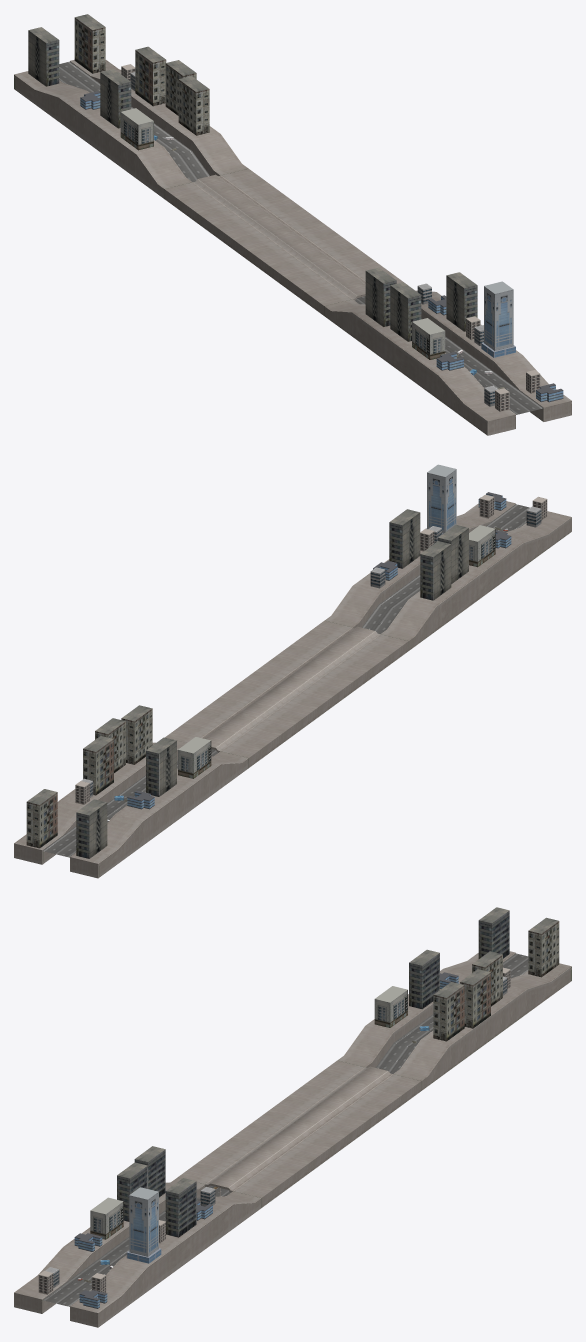
3 views of the same model, one above another, from view 1: azimuth 30°, elevation 25°; view 2: azimuth 150°, elevation 25°; view 3: azimuth 330°, elevation 25° (orthographic).
Parts seen in each view (by area): view 1: tunnel, road, building5, building23, building15, building24, building17, building10, building021, building11, building13, building18 (+2 smaller); view 2: tunnel, road, building5, building13, building24, building23, building10, building021, building17, building15, building18, building11 (+2 smaller); view 3: tunnel, road, building5, building24, building15, building10, building021, building16, building23, building18, building9, building11 (+2 smaller).
Boxes of the visible parts, box(x1,y1,x2,y2) form: tunnel: box(14, 59, 571, 435); road: box(59, 61, 543, 414); building5: box(481, 281, 515, 357); building23: box(28, 27, 59, 86); building15: box(178, 76, 209, 135); building24: box(74, 14, 105, 73); building17: box(135, 46, 166, 106); building10: box(446, 272, 477, 331); building021: box(100, 69, 131, 128); building11: box(390, 282, 421, 341); building13: box(365, 267, 396, 326); building18: box(120, 108, 153, 150); tunnel: box(14, 501, 571, 878); road: box(42, 504, 529, 857); building5: box(426, 464, 456, 534); building13: box(420, 541, 451, 600); building24: box(26, 789, 57, 848); building23: box(76, 799, 107, 858); building10: box(389, 509, 420, 568); building021: box(146, 737, 176, 796); building17: box(83, 736, 113, 795); building15: box(121, 705, 152, 764); building18: box(178, 737, 211, 778); building11: box(438, 524, 468, 583); tunnel: box(14, 951, 571, 1327); road: box(42, 953, 528, 1306); building5: box(126, 1187, 161, 1263); building24: box(528, 917, 559, 977); building15: box(433, 982, 464, 1041); building10: box(165, 1178, 196, 1237); building021: box(409, 949, 439, 1009); building16: box(460, 969, 490, 1028); building23: box(478, 907, 509, 958); building18: box(374, 986, 407, 1027); building9: box(90, 1197, 123, 1239); building11: box(117, 1162, 147, 1221).
Bounding box in the file's own units: 1.25 × 1.26 × 12.2.
Materials: 15 (15 with a texture image).
